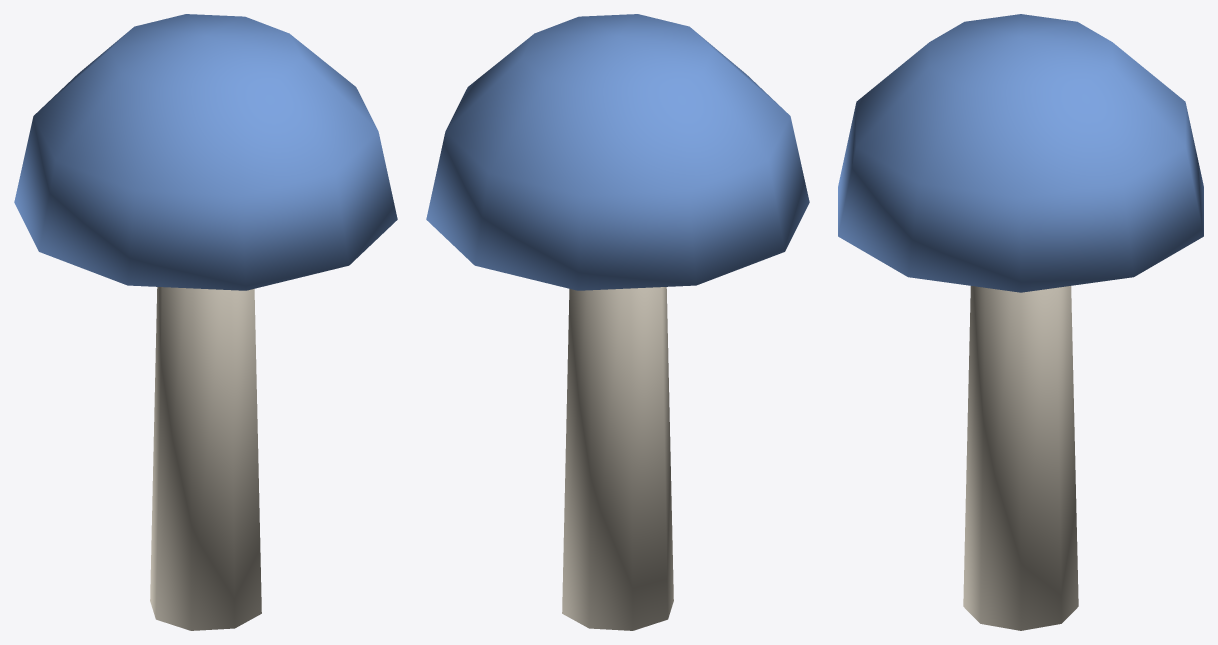
The model's file is glowing_mushroom.glb.
3 renders of one model, left to right at view 1: azimuth 30°, elevation 25°; view 2: azimuth 150°, elevation 25°; view 3: azimuth 270°, elevation 25°, orthographic.
Parts seen in each view (by area): view 1: glowing_mushroom_v0; view 2: glowing_mushroom_v0; view 3: glowing_mushroom_v0.
Part boxes in pixels (box(x1,y1,x2,y2)): glowing_mushroom_v0: box(14, 14, 397, 630); glowing_mushroom_v0: box(426, 14, 809, 630); glowing_mushroom_v0: box(838, 14, 1203, 630).
Bounding box in the file's own units: 0.2 × 0.3268 × 0.1902.
